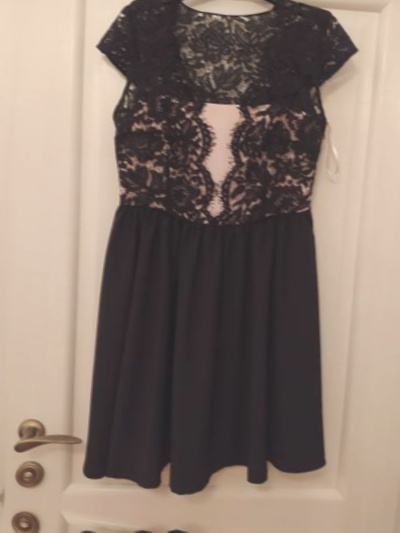Dress: (31, 0, 385, 485)
